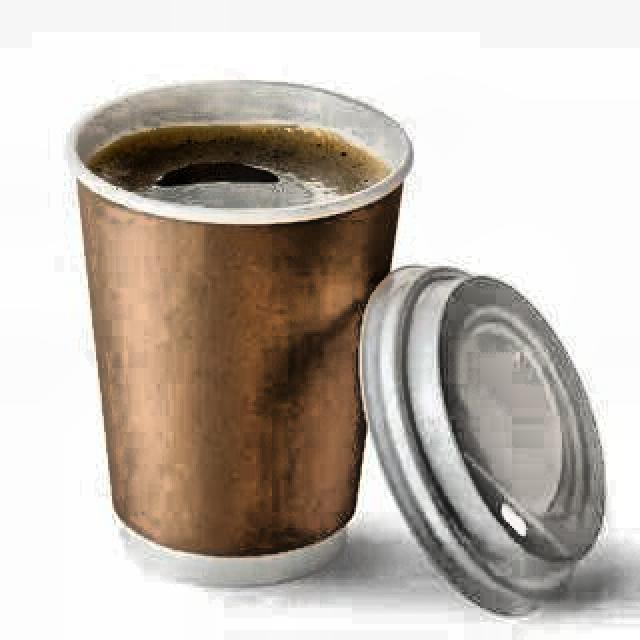Cup: (58, 65, 440, 600)
